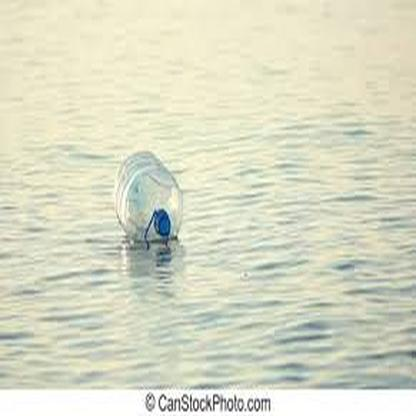plastic bottle: (113, 150, 183, 247)
